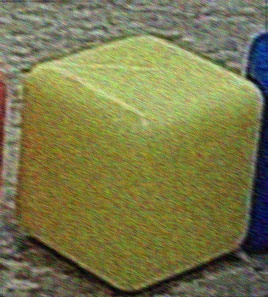yellow_cube: (10, 30, 268, 297)
